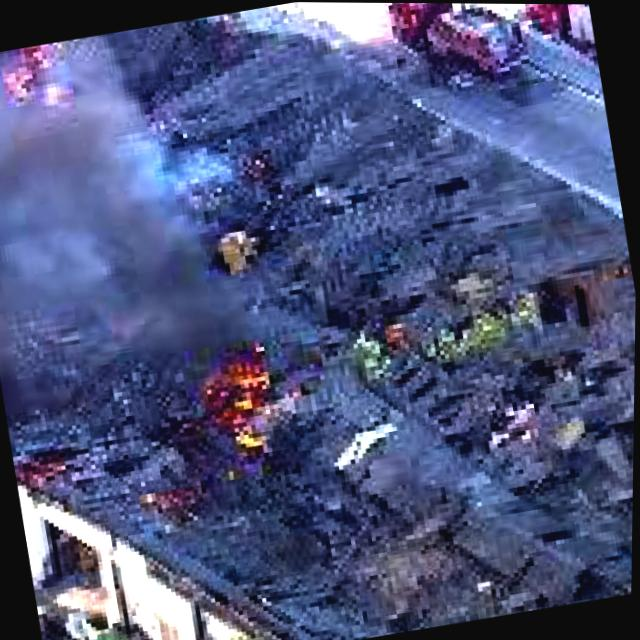smoke: (0, 21, 236, 429)
